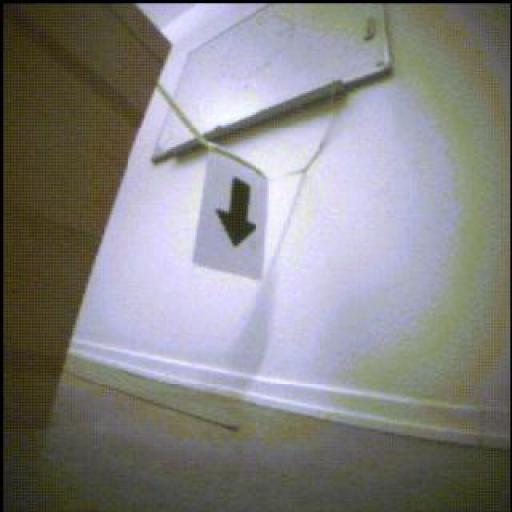arrow: (217, 179, 257, 248)
